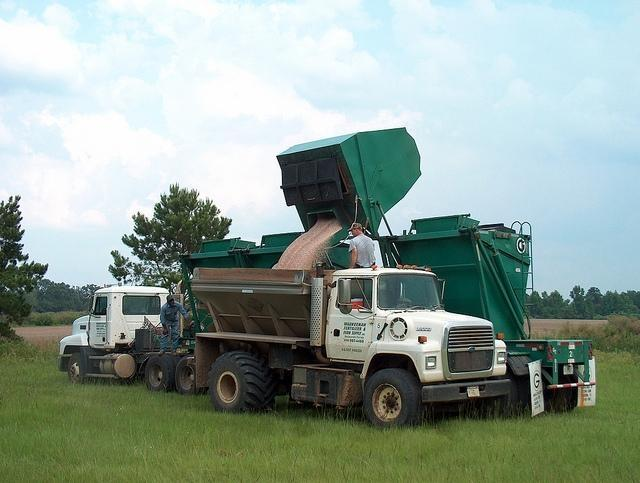truck: (188, 266, 512, 426), (58, 286, 194, 396)
